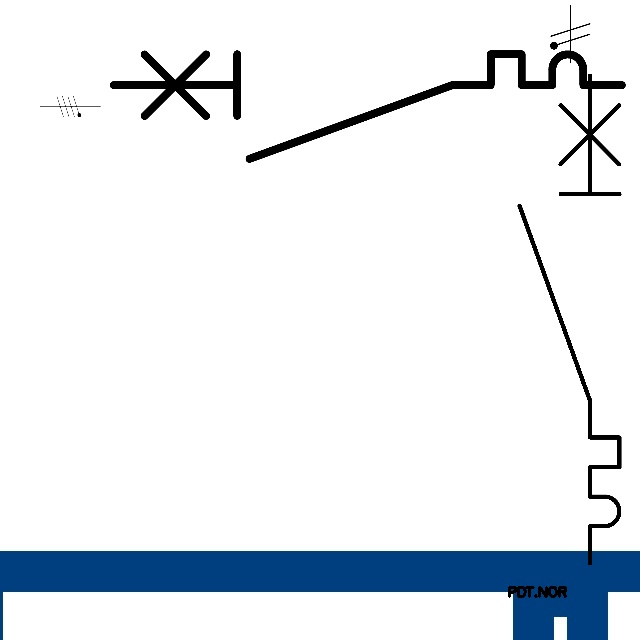interruptor_termomagnetico: (100, 41, 634, 172), (507, 63, 632, 576)
